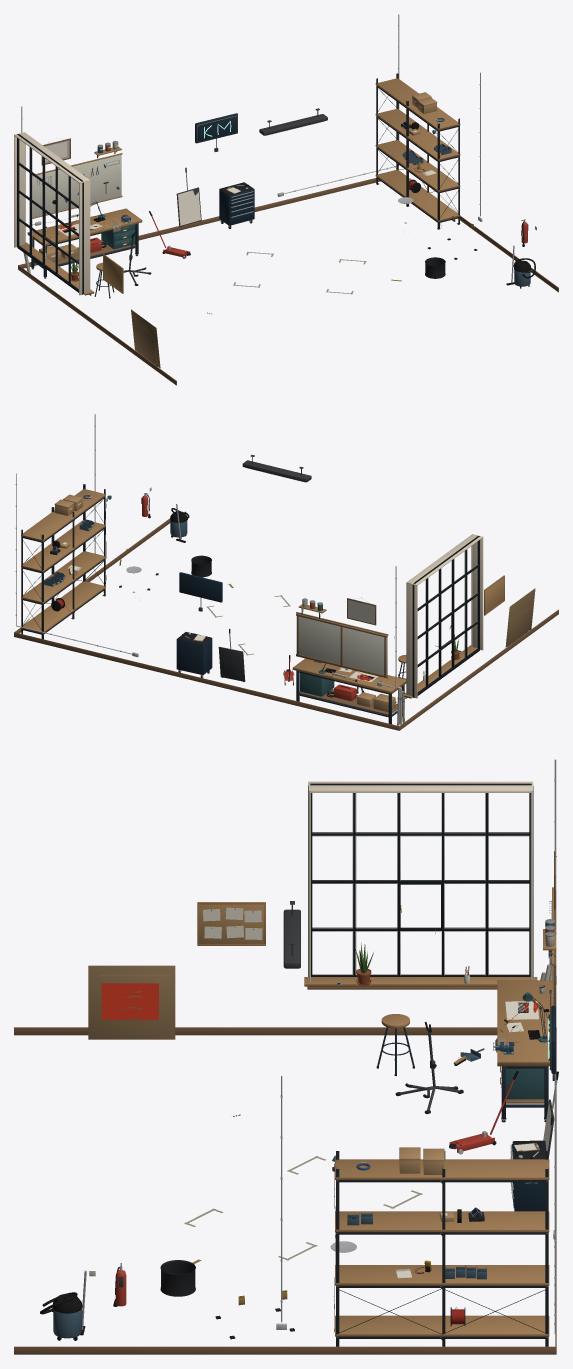
The model's file is dress.glb.
3 renders of one model, top to bottom at view 1: azimuth 30°, elevation 25°; view 2: azimuth 150°, elevation 25°; view 3: azimuth 270°, elevation 25°, orthographic. The views are drawn at different scales.
Parts seen in each view (by area): view 1: dress__oak, dress__plastic, dress__paint, dress__oak_dark, dress__plaster, dress__peg, dress__metal, dress__prints, dress__card, dress__zinc, dress__red_paint, dress__cork; view 2: dress__oak, dress__plastic, dress__paint, dress__oak_dark, dress__peg, dress__plaster, dress__metal, dress__card, dress__zinc, dress__red_paint, dress__cork, mounted_tyre__rubber; view 3: dress__oak, dress__plastic, dress__oak_dark, dress__paint, dress__plaster, dress__metal, dress__prints, dress__acrylic_red, dress__zinc, dress__cork, dress__card, mounted_tyre__rubber (+2 smaller).
Part boxes in pixels (x1=…): dress__oak: x1=19, y1=78, x2=459, y2=295; dress__plastic: x1=17, y1=80, x2=536, y2=368; dress__paint: x1=31, y1=73, x2=460, y2=297; dress__oak_dark: x1=18, y1=138, x2=558, y2=385; dress__plaster: x1=14, y1=132, x2=90, y2=295; dress__peg: x1=32, y1=154, x2=121, y2=217; dress__metal: x1=37, y1=108, x2=528, y2=313; dress__prints: x1=45, y1=100, x2=522, y2=257; dress__card: x1=39, y1=92, x2=437, y2=261; dress__zinc: x1=21, y1=14, x2=482, y2=277; dress__red_paint: x1=90, y1=216, x2=527, y2=257; dress__cork: x1=103, y1=256, x2=122, y2=291; dress__oak: x1=21, y1=489, x2=504, y2=701; dress__plastic: x1=21, y1=487, x2=535, y2=725; dress__paint: x1=21, y1=484, x2=405, y2=724; dress__oak_dark: x1=14, y1=518, x2=558, y2=730; dress__peg: x1=296, y1=614, x2=387, y2=675; dress__plaster: x1=406, y1=534, x2=483, y2=698; dress__metal: x1=52, y1=455, x2=461, y2=691; dress__card: x1=54, y1=494, x2=402, y2=712; dress__zinc: x1=15, y1=414, x2=396, y2=716; dress__red_paint: x1=142, y1=496, x2=356, y2=701; dress__cork: x1=485, y1=577, x2=504, y2=613; mounted_tyre__rubber: x1=191, y1=555, x2=211, y2=577; dress__oak: x1=197, y1=887, x2=556, y2=1336; dress__plastic: x1=40, y1=783, x2=558, y2=1346; dress__oak_dark: x1=14, y1=851, x2=556, y2=1354; dress__paint: x1=332, y1=923, x2=555, y2=1346; dress__plaster: x1=308, y1=781, x2=533, y2=982; dress__metal: x1=82, y1=856, x2=558, y2=1329; dress__prints: x1=203, y1=907, x2=551, y2=1277; dress__acrylic_red: x1=101, y1=983, x2=537, y2=1059; dress__zinc: x1=276, y1=759, x2=556, y2=1337; dress__cork: x1=199, y1=904, x2=264, y2=944; dress__card: x1=399, y1=965, x2=549, y2=1221; mounted_tyre__rubber: x1=160, y1=1260, x2=195, y2=1296.
Size of the model in its own units: 10.9 by 4.3 by 7.63.
